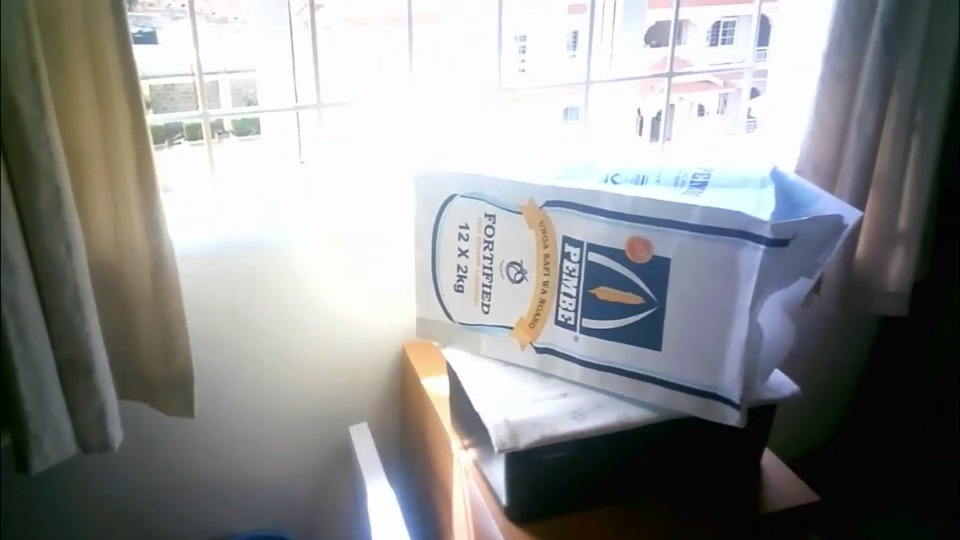wheat_flour_blue_label: (413, 162, 864, 429)
